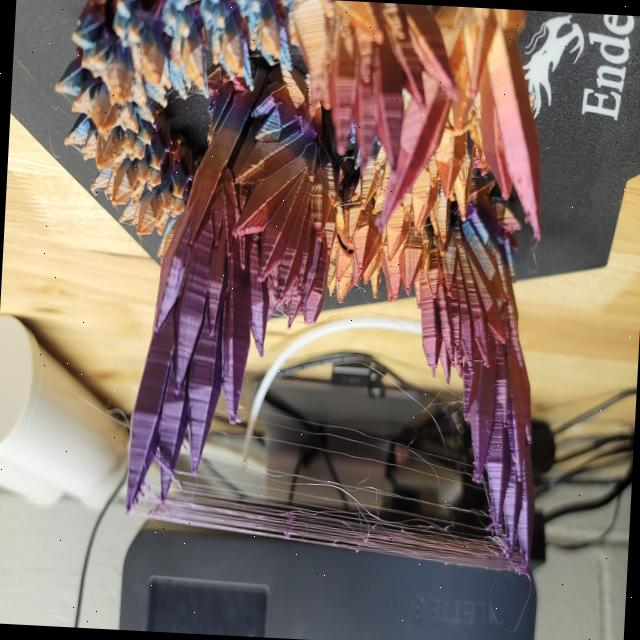stringing: (300, 494, 506, 566), (160, 480, 308, 542), (380, 439, 484, 485)
